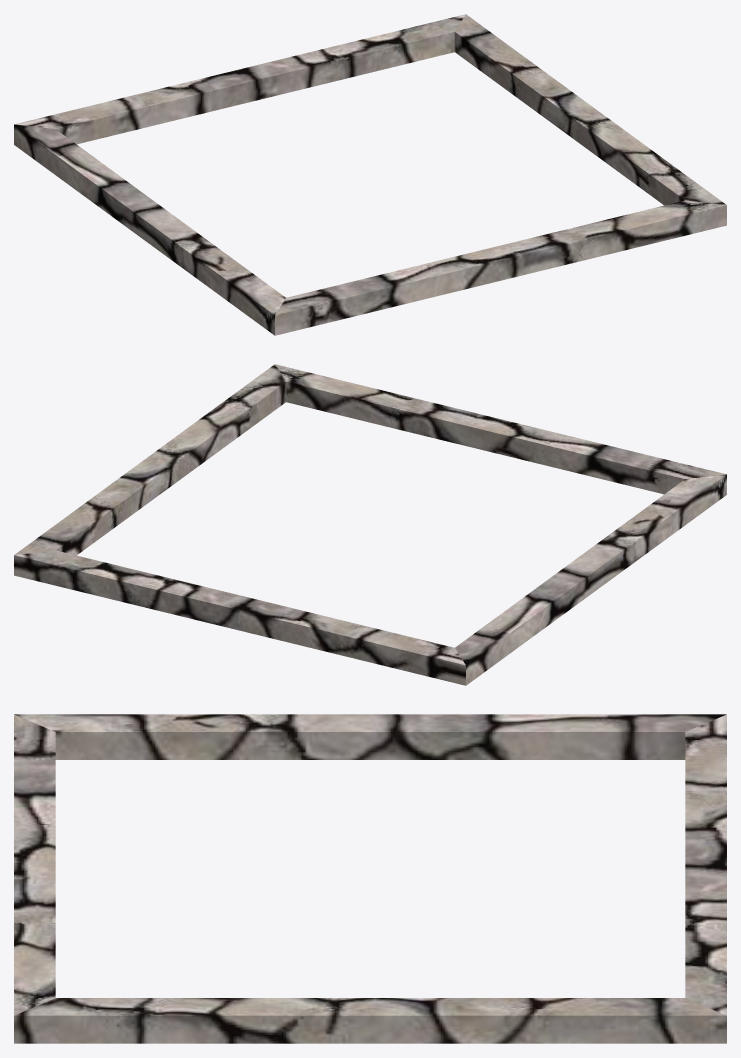
Rendered from board4.obj.
The picture shows the model from 3 angles, top to bottom: view 1: azimuth 30°, elevation 25°; view 2: azimuth 150°, elevation 25°; view 3: azimuth 270°, elevation 25°; orthographic projection. The views are drawn at different scales.
Visible parts, largest first — view 1: Board_Walls; view 2: Board_Walls; view 3: Board_Walls.
Boxes of the visible parts, x1,y1,x2,y2 form: Board_Walls: (14,14,726,335); Board_Walls: (14,364,726,685); Board_Walls: (14,714,726,1043).
Size of the model in its own units: 11.6 by 0.5 by 11.6.
